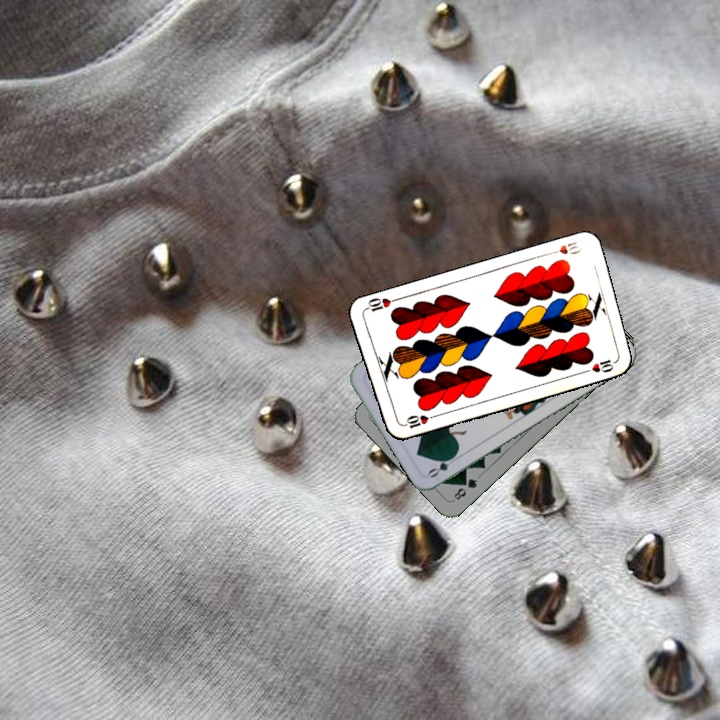G8: (450, 474, 480, 503)
GO: (424, 449, 462, 481)
H10: (398, 411, 438, 431), (544, 238, 584, 257)
